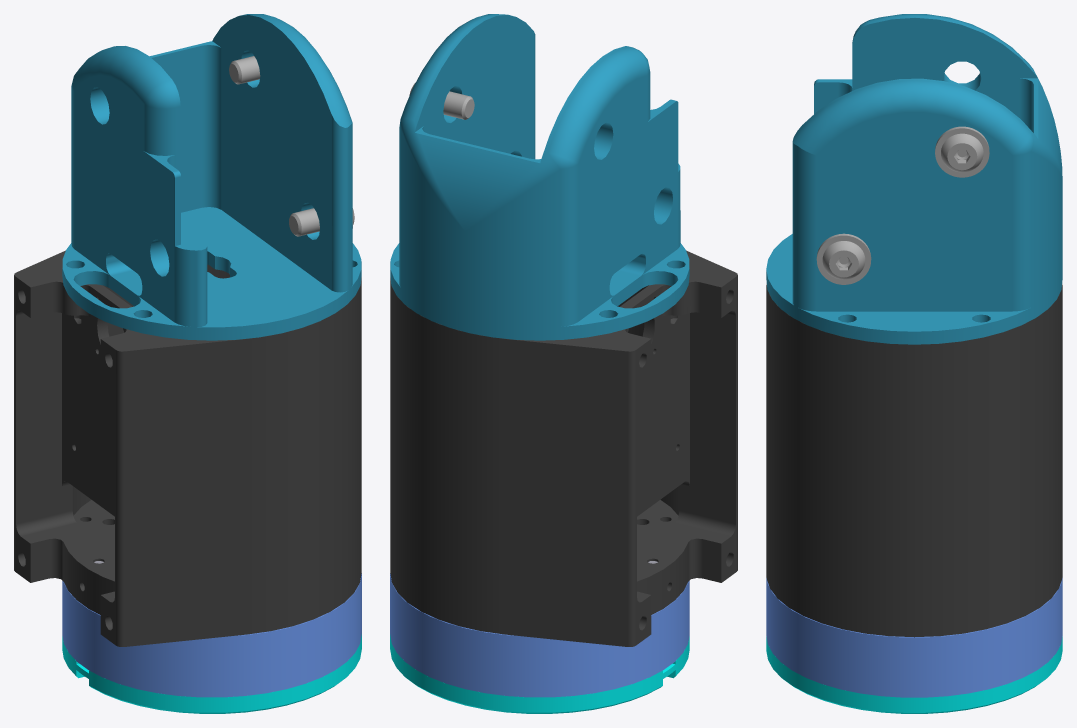
File: LARM_LINK2_mesh.dae
The picture shows the model from 3 angles, left to right: view 1: azimuth 30°, elevation 25°; view 2: azimuth 150°, elevation 25°; view 3: azimuth 270°, elevation 25°; orthographic projection.
Parts seen in each view (by area): view 1: サーフェス1_ncl1_8, サーフェス1, サーフェス1_ncl1_7, サーフェス1_ncl1_5, サーフェス1_ncl1_30, サーフェス1_ncl1_31; view 2: サーフェス1_ncl1_8, サーフェス1, サーフェス1_ncl1_7, サーフェス1_ncl1_5, サーフェス1_ncl1_31; view 3: サーフェス1_ncl1_8, サーフェス1, サーフェス1_ncl1_7, サーフェス1_ncl1_5, サーフェス1_ncl1_31, サーフェス1_ncl1_30.
Part boxes in pixels (x1,y1,x2,y2): サーフェス1_ncl1_8: (14, 250, 361, 646); サーフェス1: (62, 14, 361, 340); サーフェス1_ncl1_7: (62, 573, 361, 697); サーフェス1_ncl1_5: (62, 634, 361, 713); サーフェス1_ncl1_30: (289, 208, 354, 236); サーフェス1_ncl1_31: (229, 56, 260, 84); サーフェス1_ncl1_8: (390, 250, 737, 646); サーフェス1: (390, 14, 689, 340); サーフェス1_ncl1_7: (390, 573, 689, 697); サーフェス1_ncl1_5: (390, 634, 689, 713); サーフェス1_ncl1_31: (409, 83, 474, 119); サーフェス1_ncl1_8: (766, 284, 1062, 637); サーフェス1: (766, 14, 1062, 344); サーフェス1_ncl1_7: (766, 578, 1062, 697); サーフェス1_ncl1_5: (766, 636, 1062, 713); サーフェス1_ncl1_31: (935, 126, 989, 177); サーフェス1_ncl1_30: (816, 233, 871, 284).
Bounding box in the file's own units: 0.066 × 0.062 × 0.1415.
